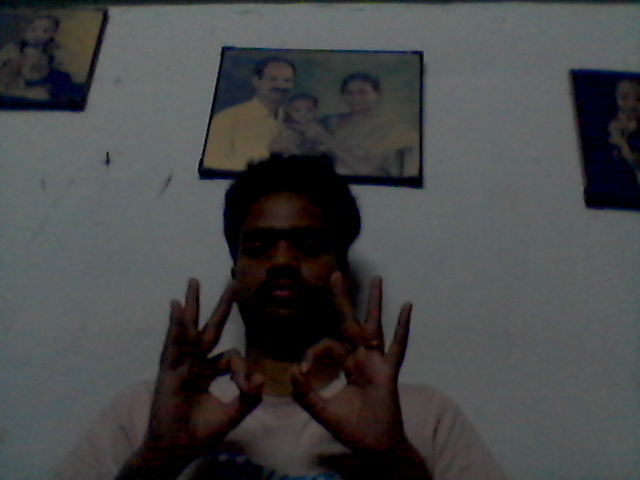How are you: (142, 268, 438, 462)
